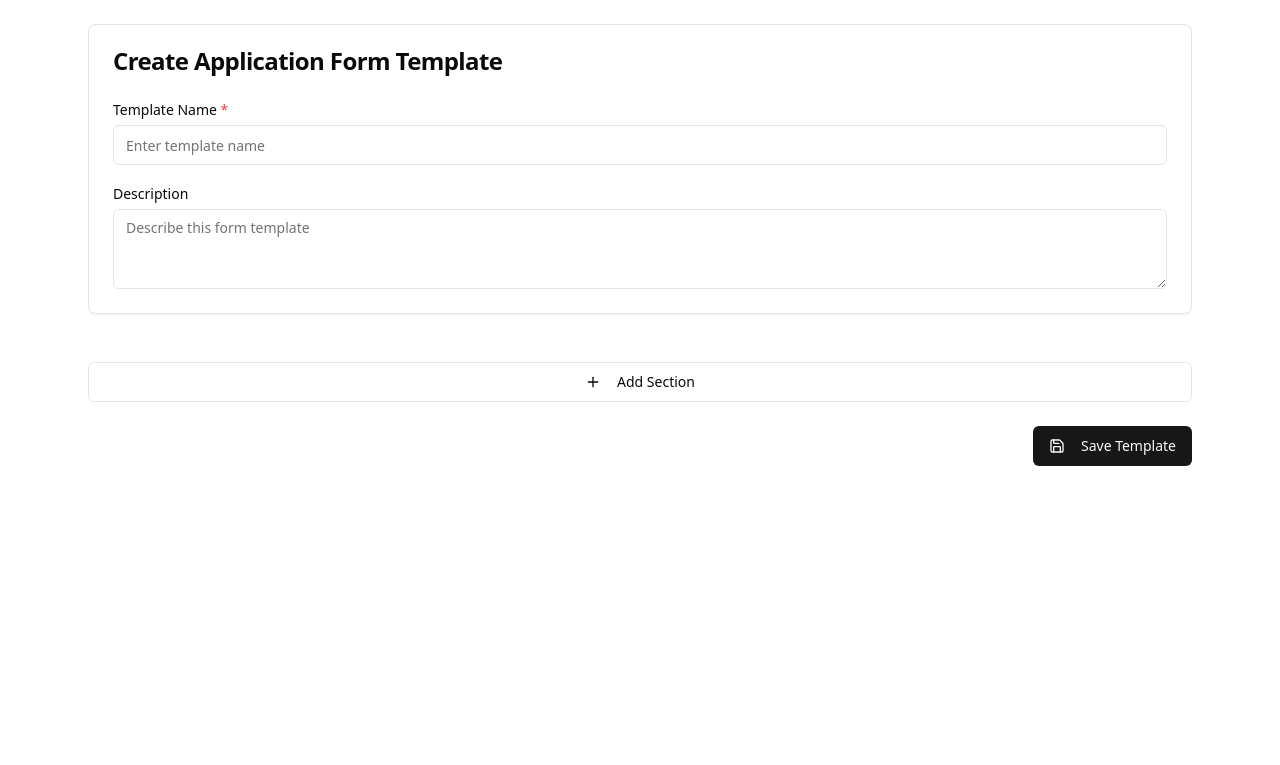
Test: FormBuilder › adds a new section on button click
The image size is (1280, 765).
What coordinates should you click on to do the following:
click the button "Add Section"
I would click on:
 (640, 382)
Its box is [88,362,1192,402].
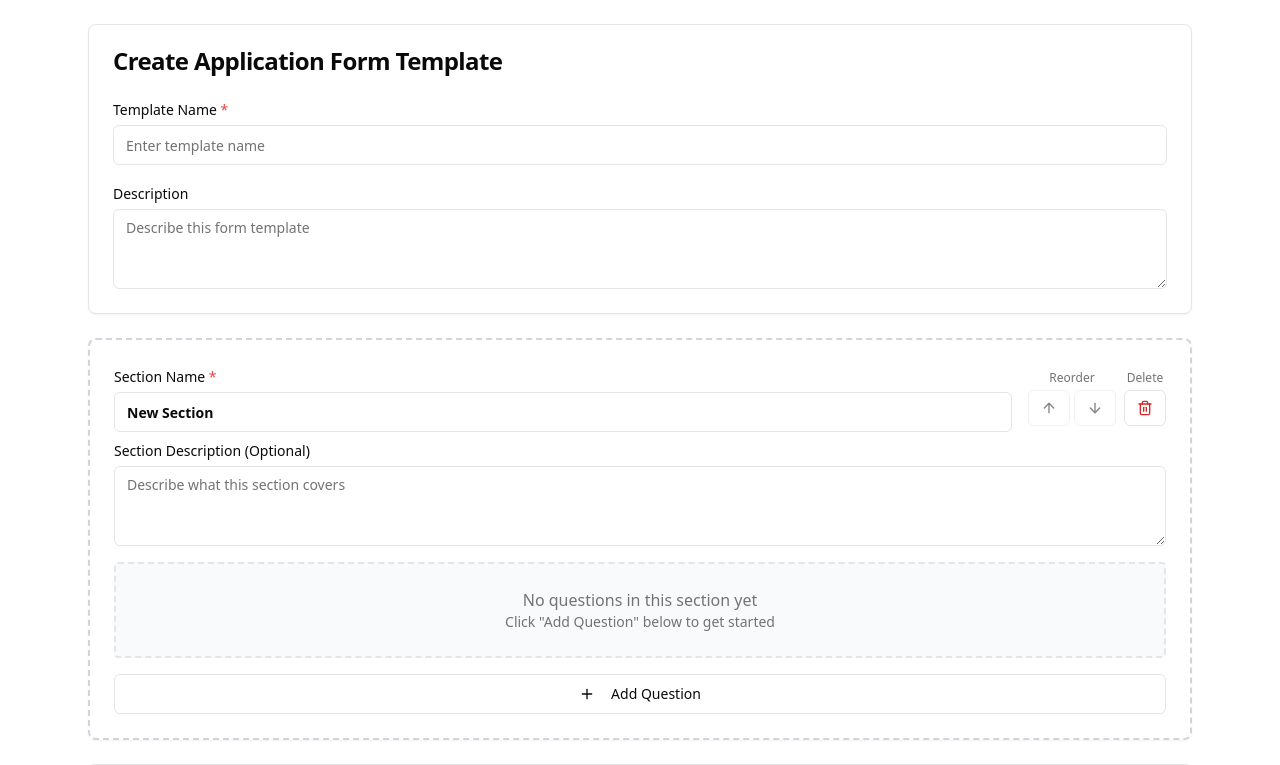
Expected: the field showing "New Section" is shown, [114,392,1012,432]
